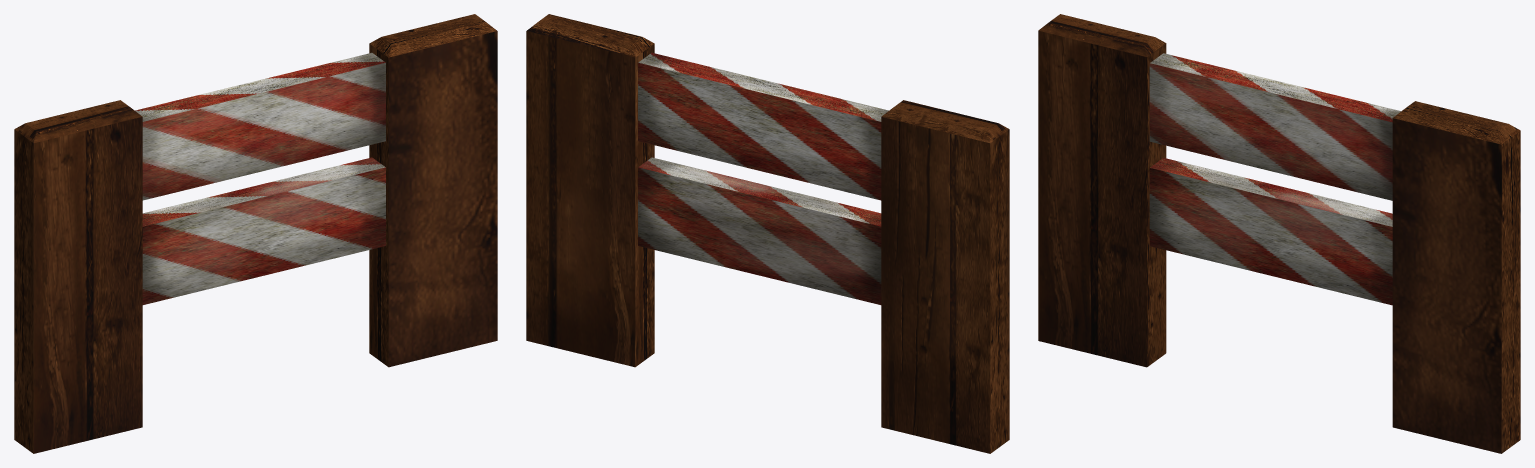
Rendered from Road Props.fbx.
3 renders of one model, left to right at view 1: azimuth 30°, elevation 25°; view 2: azimuth 150°, elevation 25°; view 3: azimuth 330°, elevation 25°, orthographic.
Parts seen in each view (by area): view 1: Cube, Blocker, Blocker.001; view 2: Cube, Blocker, Blocker.001; view 3: Cube, Blocker, Blocker.001.
Part boxes in pixels (left/top/right/bottom): Cube: left=14, top=14, right=497, bottom=453; Blocker: left=135, top=52, right=385, bottom=200; Blocker.001: left=142, top=157, right=385, bottom=304; Cube: left=526, top=14, right=1009, bottom=453; Blocker: left=638, top=52, right=888, bottom=200; Blocker.001: left=638, top=157, right=881, bottom=304; Cube: left=1038, top=14, right=1520, bottom=453; Blocker: left=1149, top=53, right=1400, bottom=200; Blocker.001: left=1149, top=158, right=1392, bottom=305.
Bounding box in the file's own units: 439 × 287 × 31.61.
